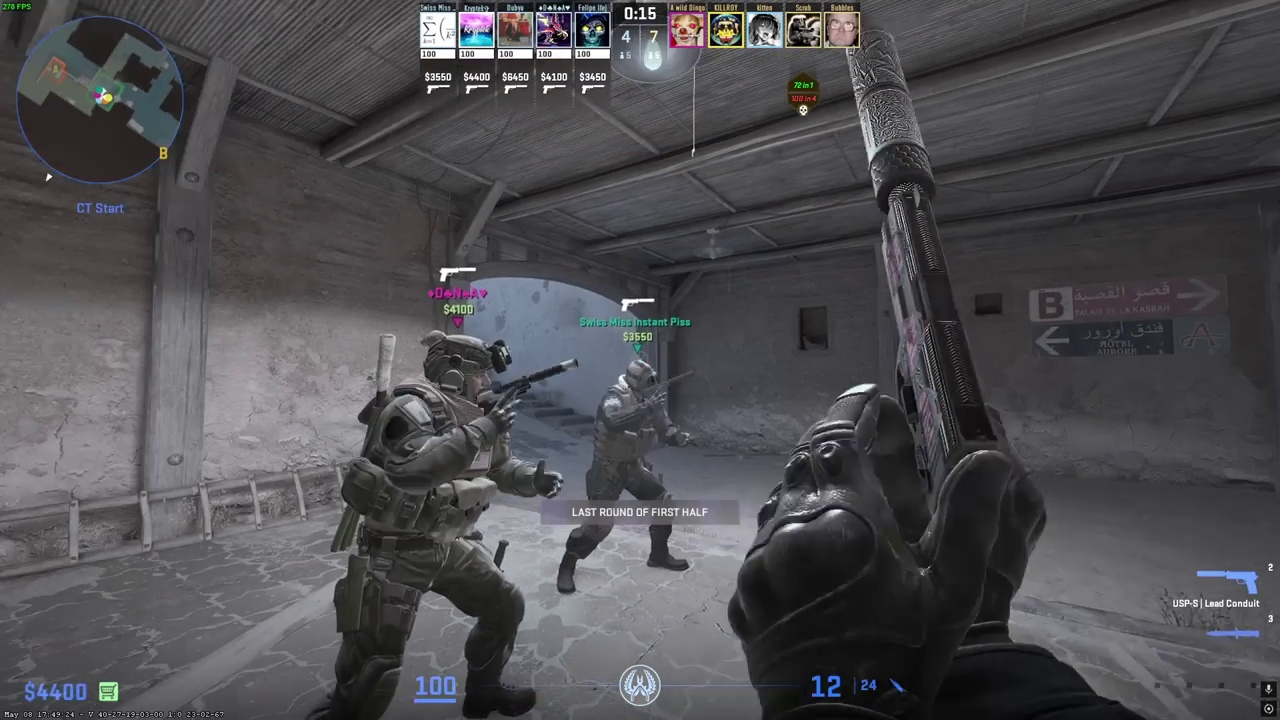CT: (328, 330, 549, 720), (562, 359, 688, 593)
